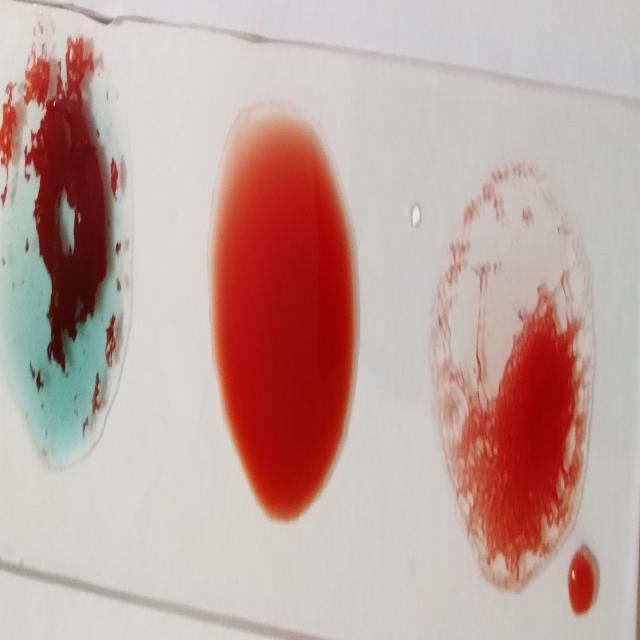A: (2, 28, 132, 472)
D: (447, 162, 584, 570)
